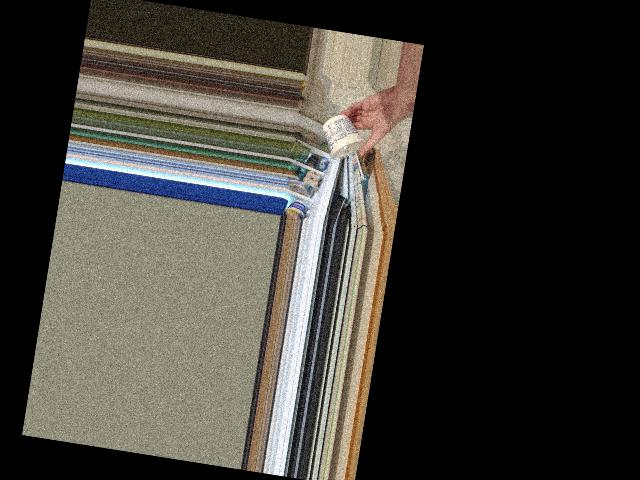cotage: (319, 118, 368, 166)
